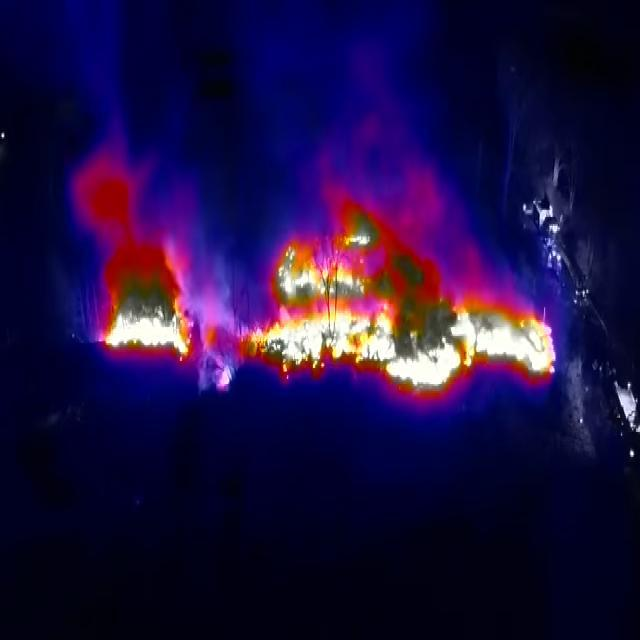fire: (241, 202, 561, 394), (95, 235, 234, 392)
